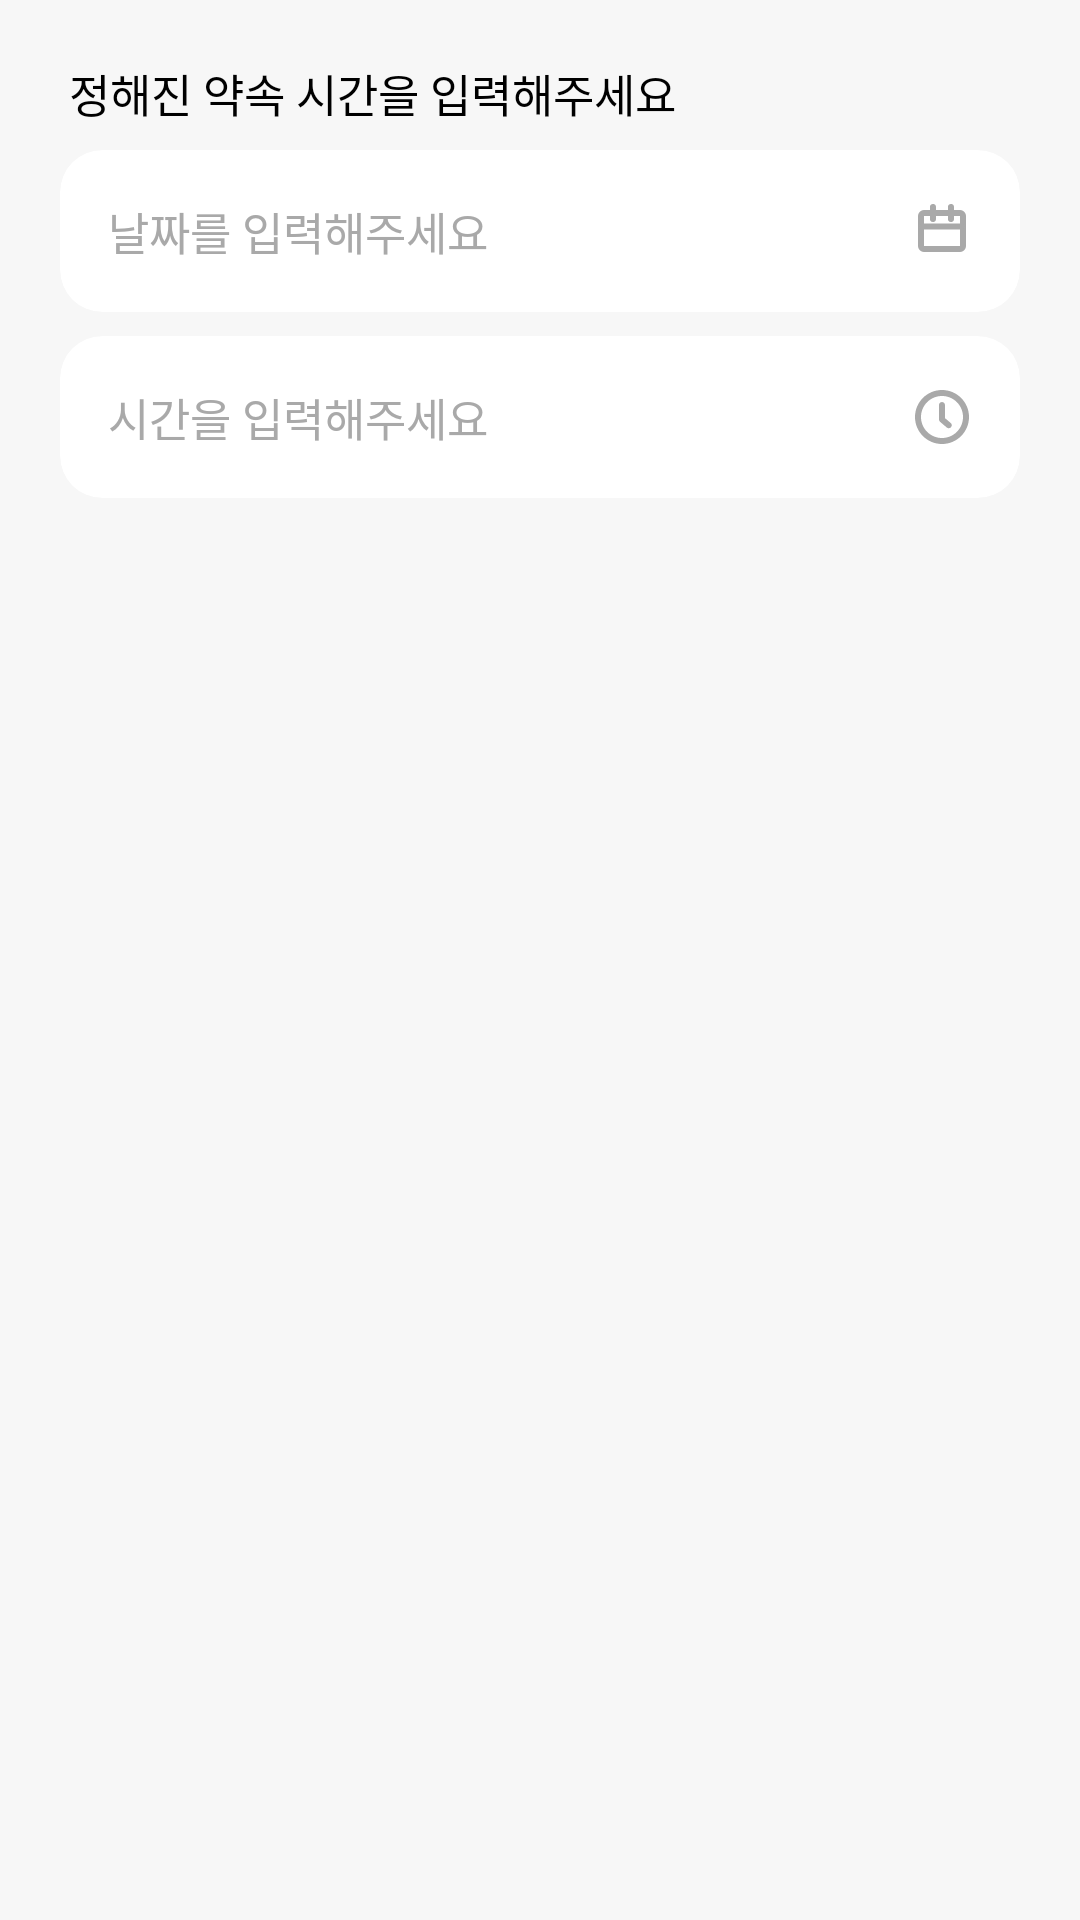

Where icons sit on this 1080 x 1920 app screen, as detection(x1, y1, x2, y2):
calendar: detection(918, 204, 966, 252)
clock: detection(915, 390, 969, 444)
